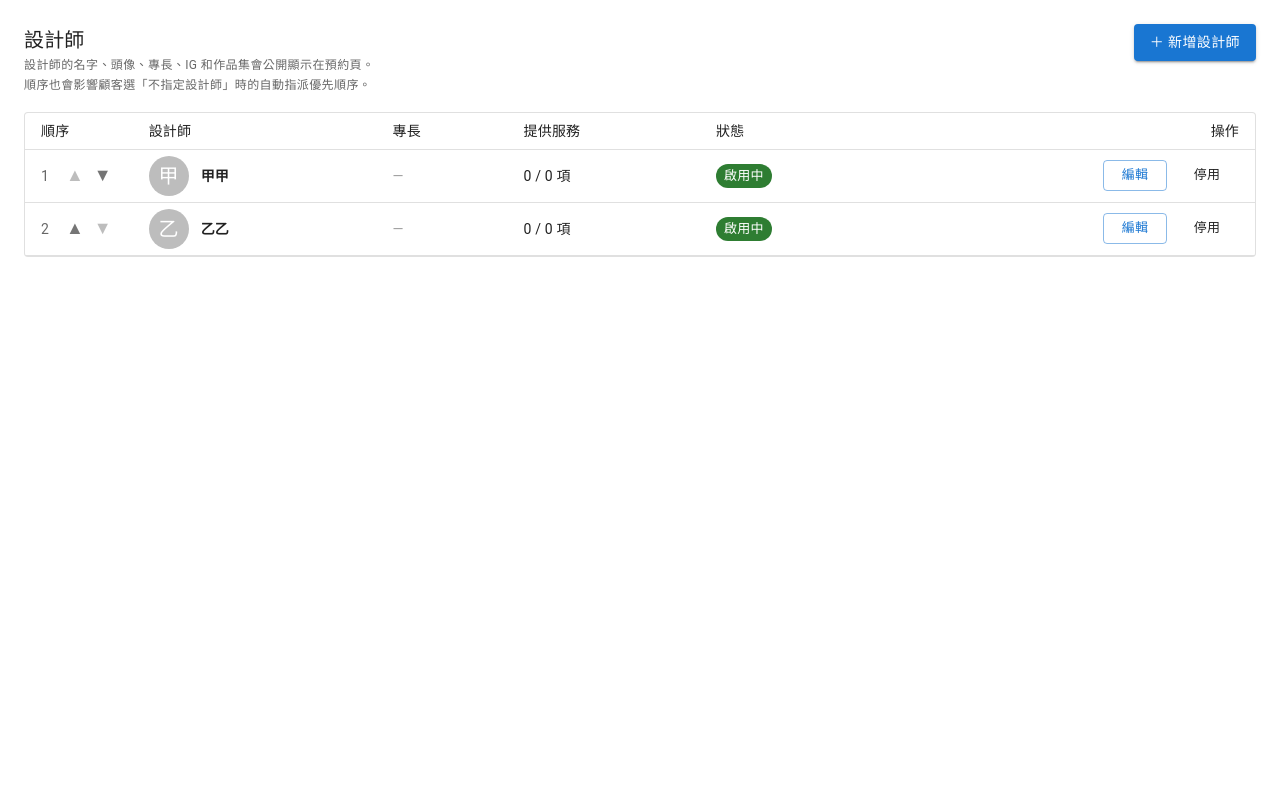
DesignersTable › 按「取消」關閉確認對話框，不寫入
Click the button "停用" in the row of "甲甲" at (1207, 176), box top-left (1175, 160), bottom-right (1239, 191)
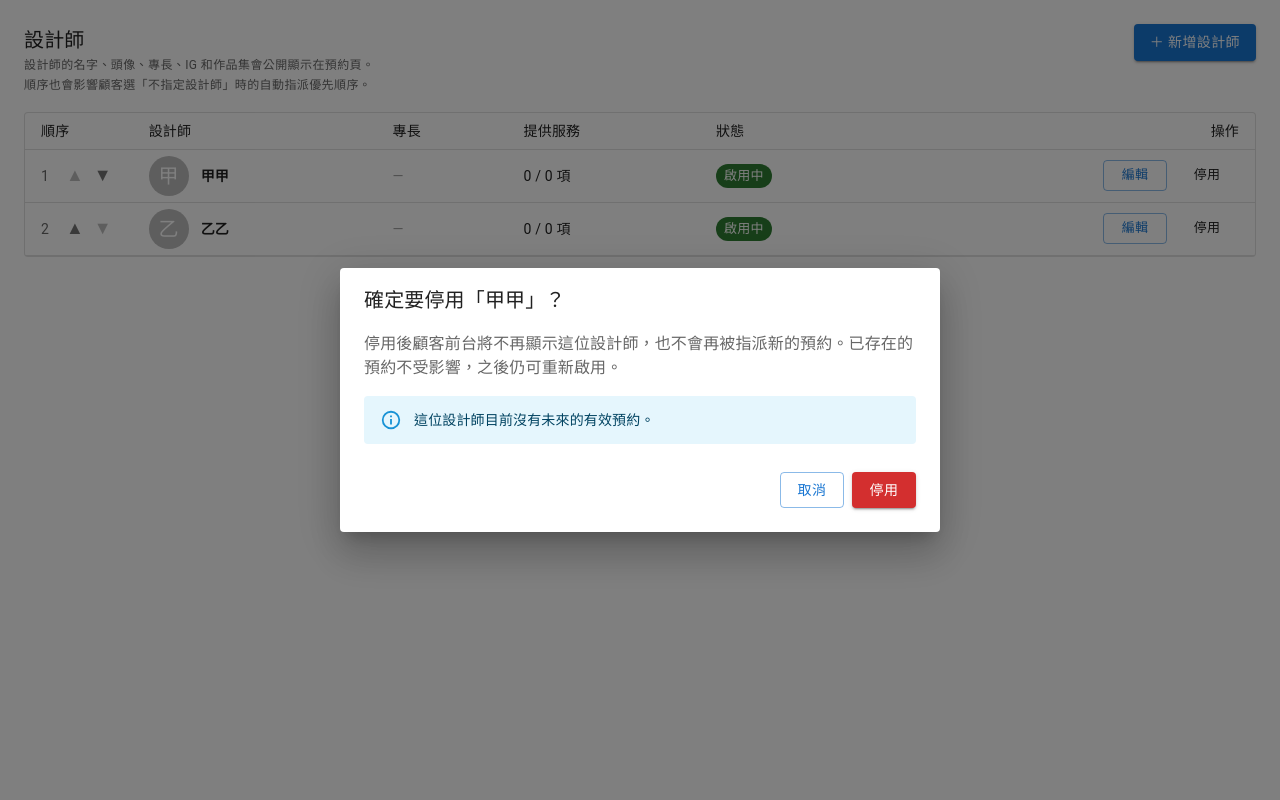
Click the button "取消" at (812, 490), box top-left (780, 472), bottom-right (844, 508)
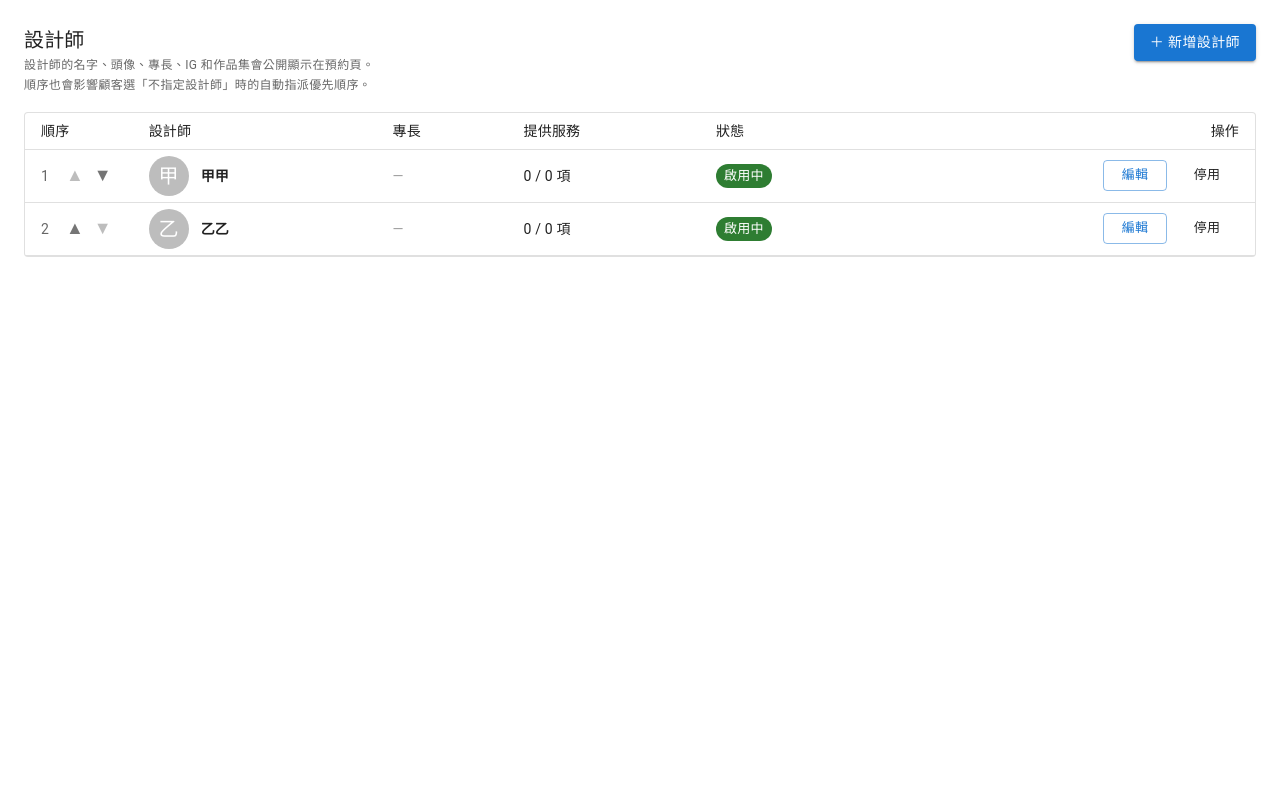
Expected: the dialog is gone
